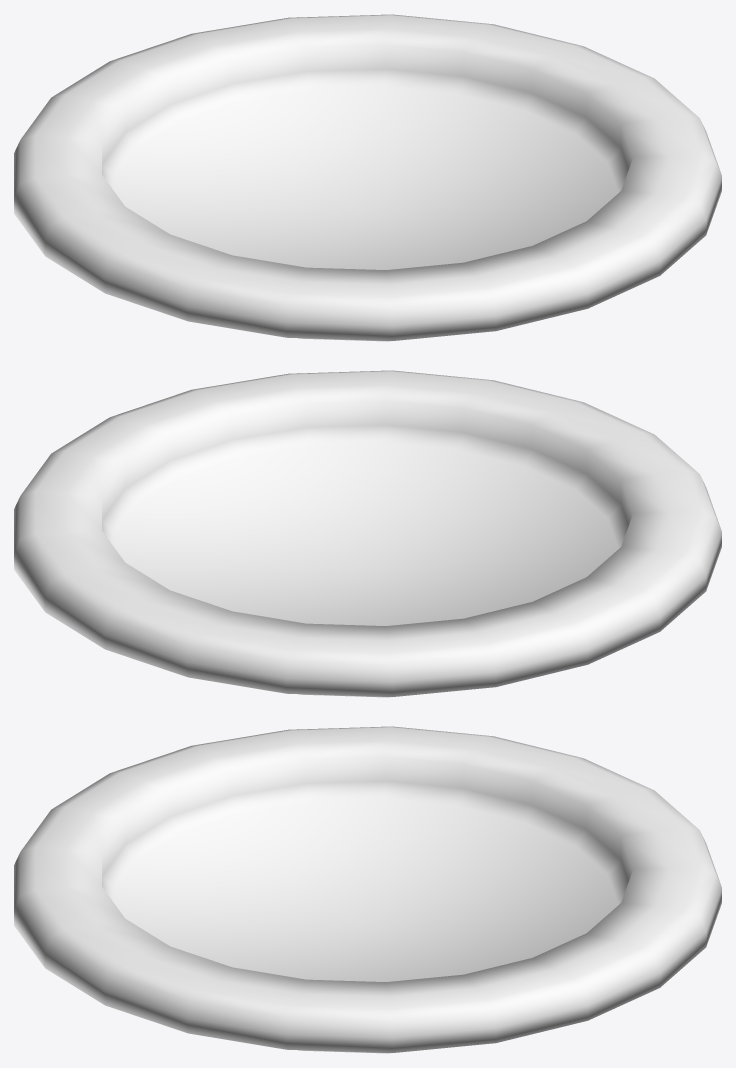
The model's file is Plate_Food.glb.
3 renders of one model, top to bottom at view 1: azimuth 30°, elevation 25°; view 2: azimuth 150°, elevation 25°; view 3: azimuth 270°, elevation 25°, orthographic.
Parts seen in each view (by area): view 1: Plate_Food; view 2: Plate_Food; view 3: Plate_Food.
Part boxes in pixels (x1,y1,x2,y2): Plate_Food: [14, 14, 721, 341]; Plate_Food: [14, 370, 721, 697]; Plate_Food: [14, 726, 721, 1053].
Size of the model in its own units: 0.1089 by 0.0136 by 0.1086.
Materials: 1 (1 with a texture image).
